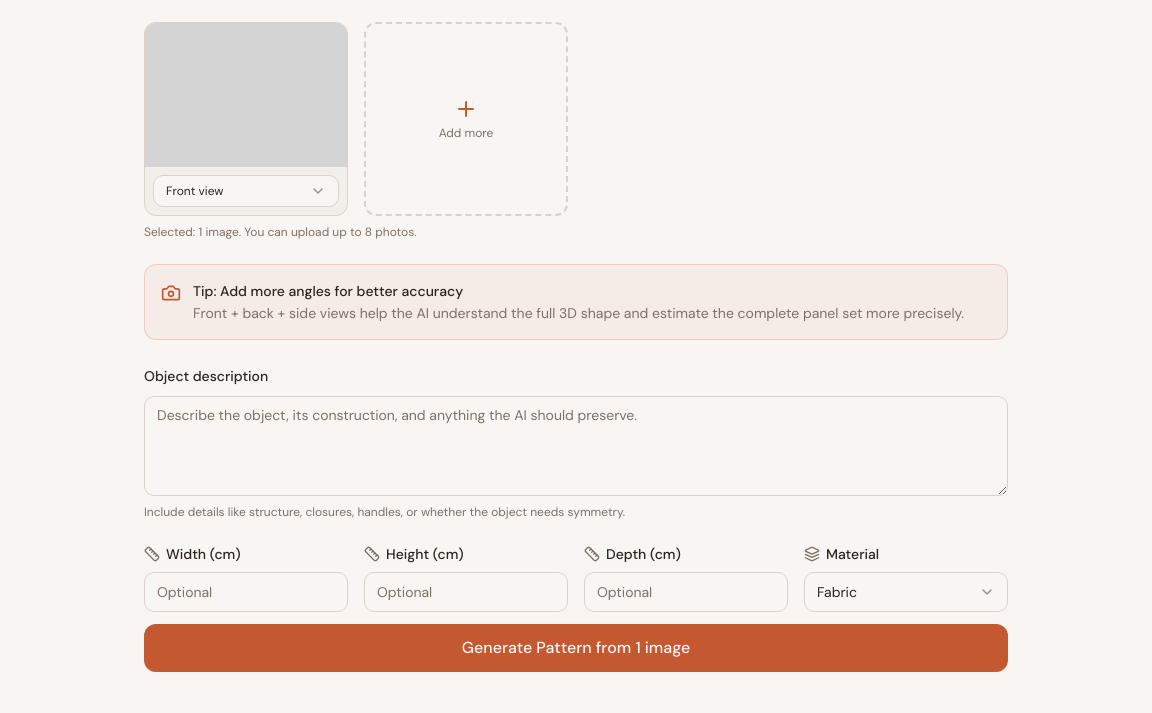
it: UploadPage › completes the generate to editor flow with a validated API response
This screenshot has width=1152, height=713.
Earlier steps of the test are not shown.
(page scrolled)
Click the button "Generate Pattern from 1 image".
click(576, 648)  # box left=144, top=624, right=1008, bottom=672
(page scrolled)
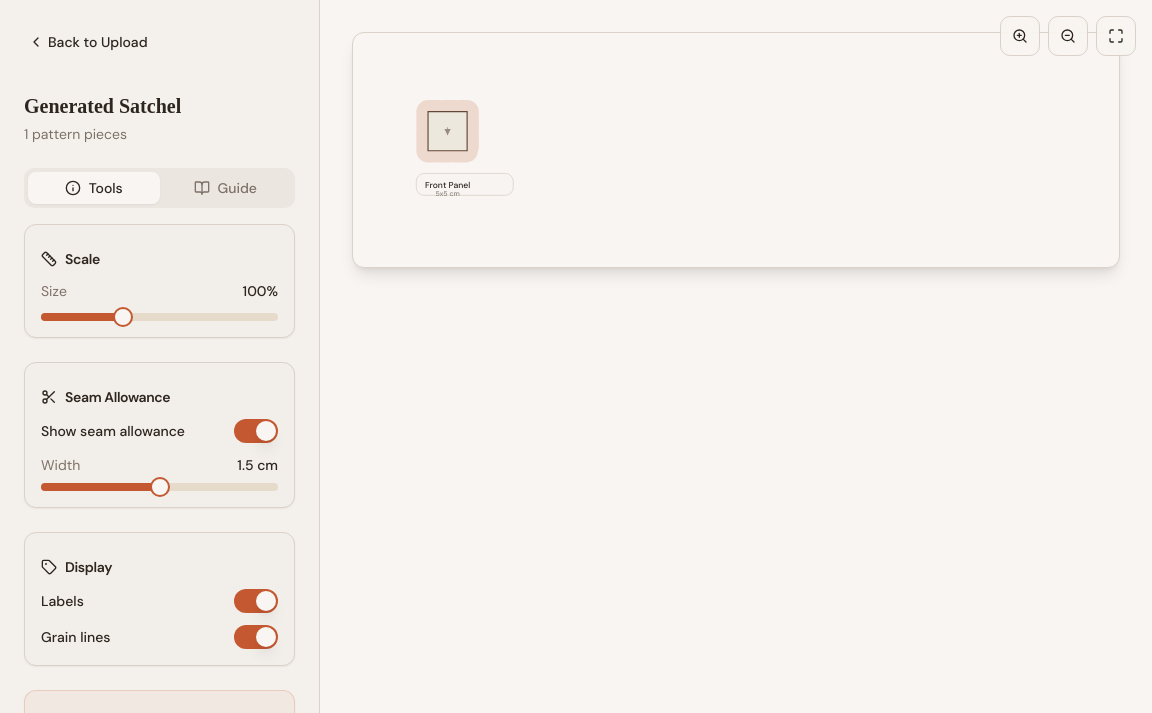
Result: the heading "Generated Satchel" is shown at left=24, top=95, right=181, bottom=117
